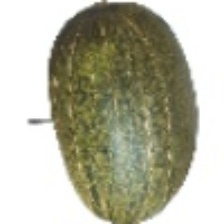honeydew: (27, 42, 161, 189)
